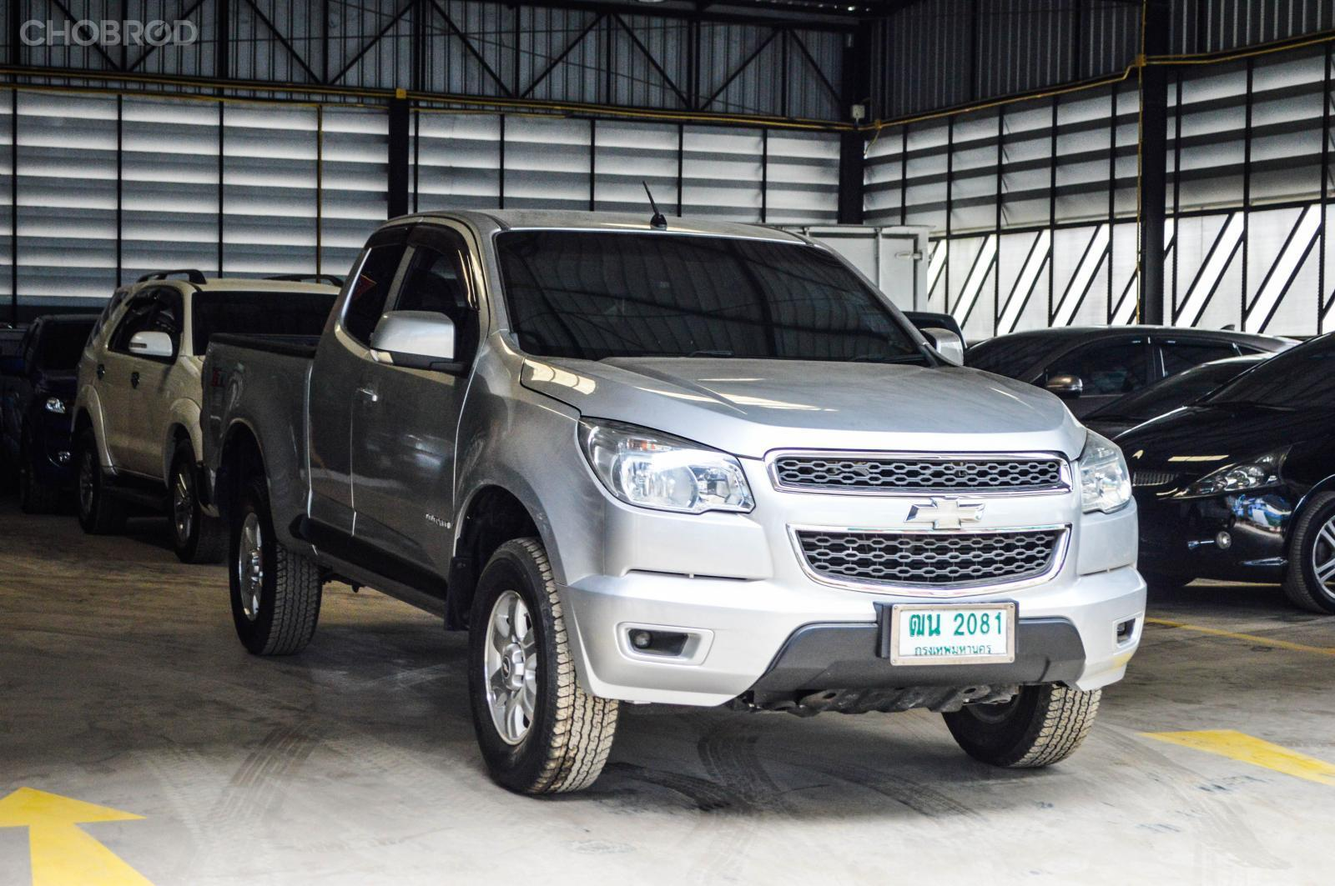license-plate: (887, 599, 1019, 668)
